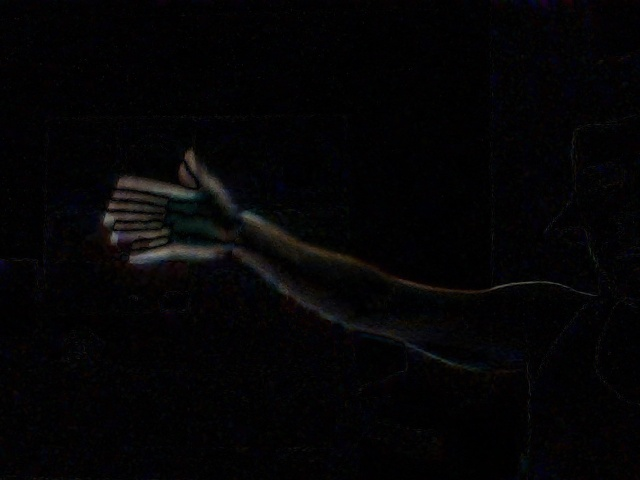hand_pa: (102, 143, 241, 260)
